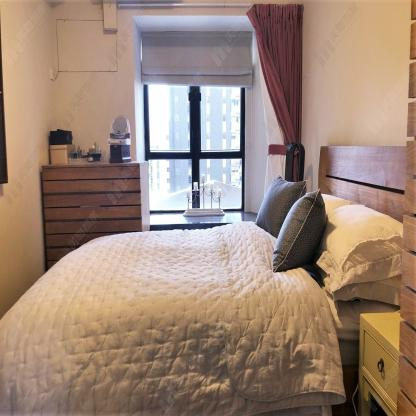Bed: (0, 142, 407, 416)
Windowsill: (130, 13, 264, 228)
